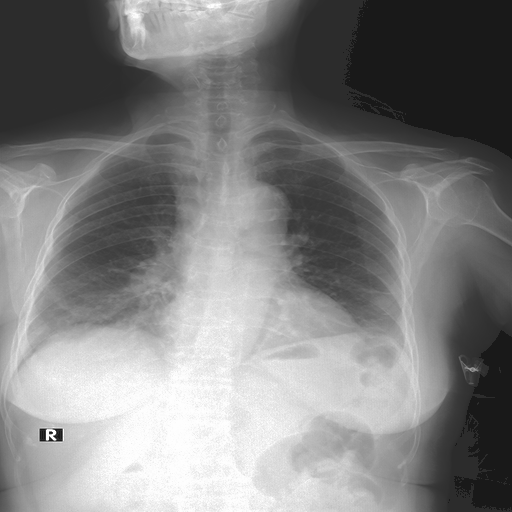Consolidation: (223, 184, 289, 246)
ILD: (55, 275, 149, 325)
Infiltration: (226, 178, 292, 241)
Nodule/Mass: (147, 299, 356, 344)
Other lesion: (169, 162, 204, 228)
Pleural thickening: (42, 278, 166, 335), (169, 162, 204, 228)
Pneumothorax: (362, 286, 403, 297)
